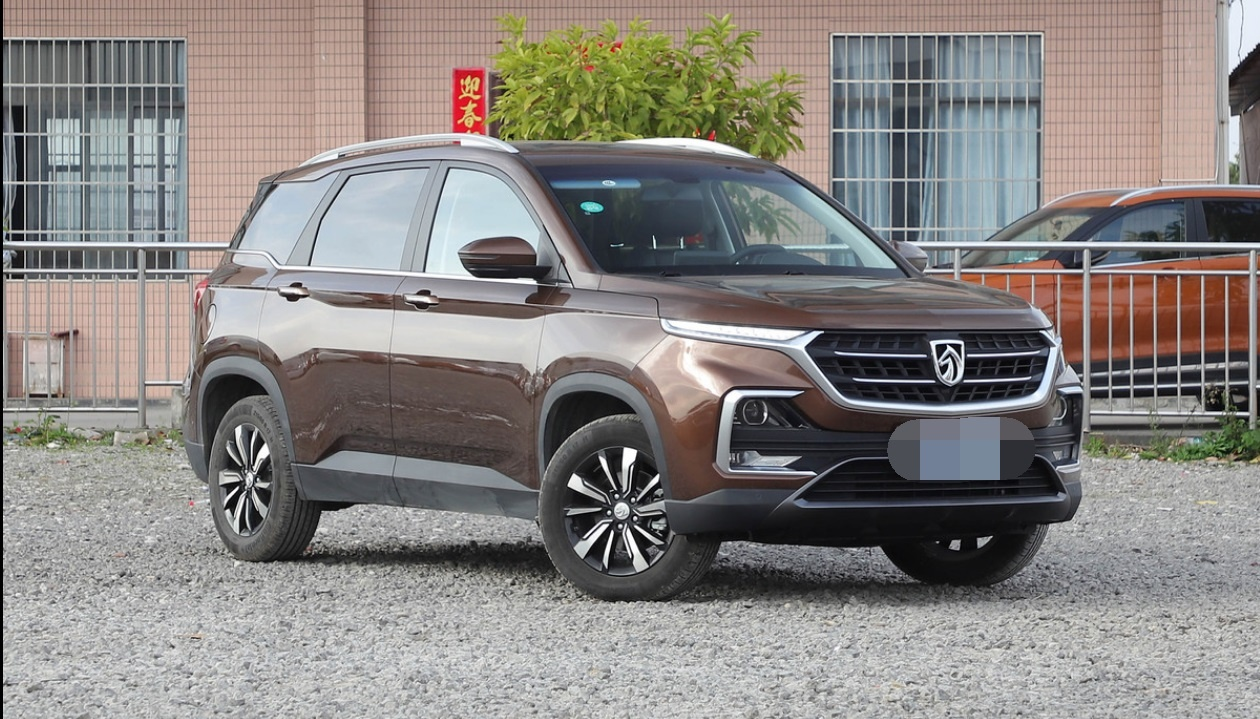SUV: (184, 119, 1097, 613)
